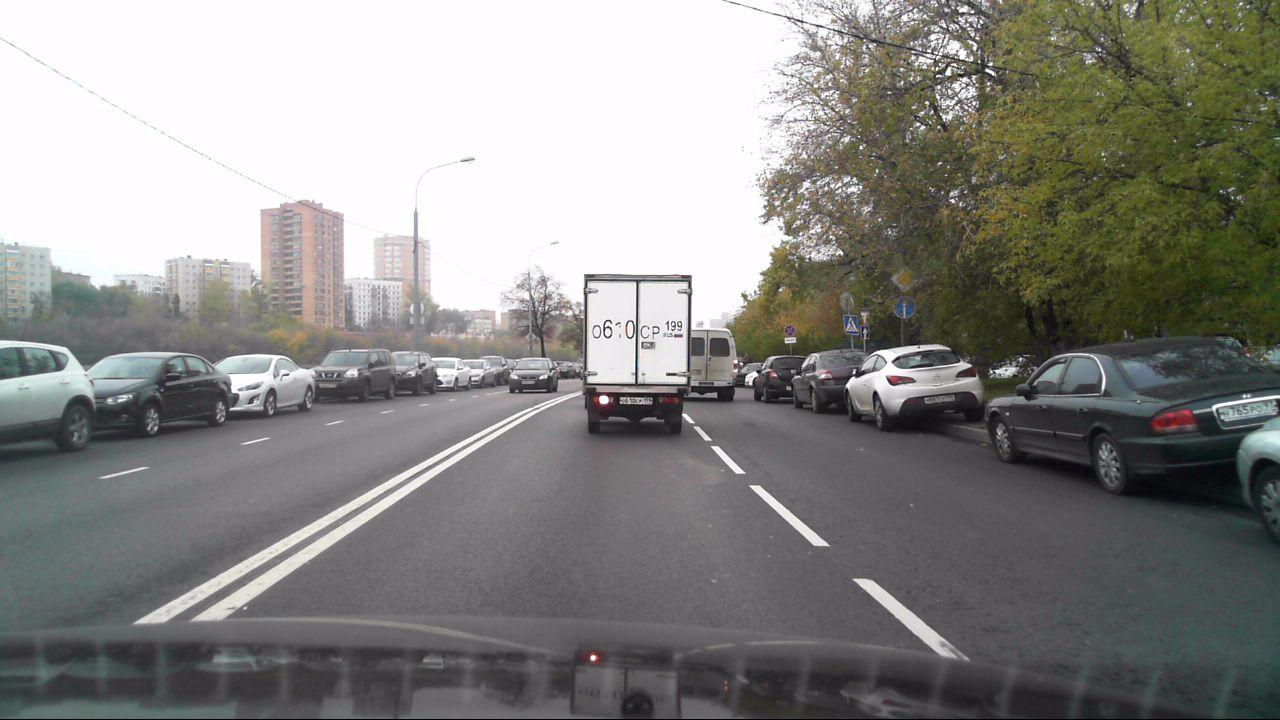obstructed_road_sign: (894, 295, 915, 318)
road_sign: (844, 315, 859, 335)
